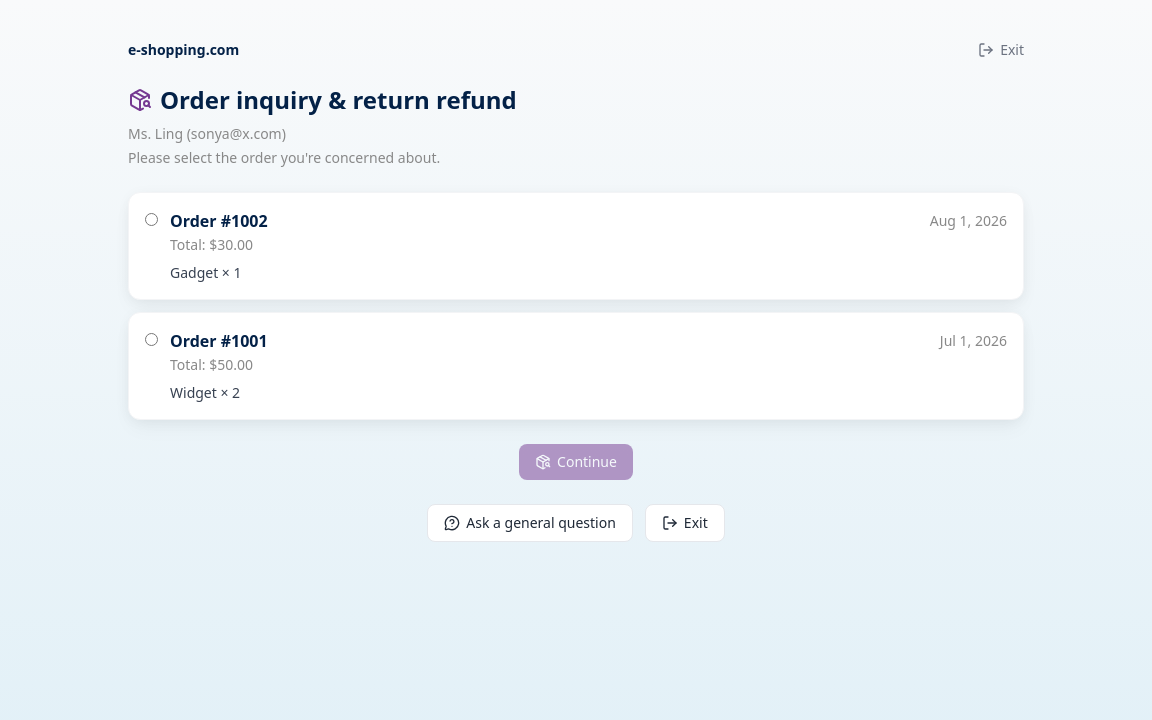
Test: OrderInquiryPage › lets a multi-order customer go back and pick a different order, reusing thread_id
Expected: the text "Order #1002" is shown, [170,209,268,233]
Click the radio button labelled "Order #1002 Aug 1, 2026 Total: $30.00 Gadget × 1" at x=152, y=220, box [145,213,158,226]
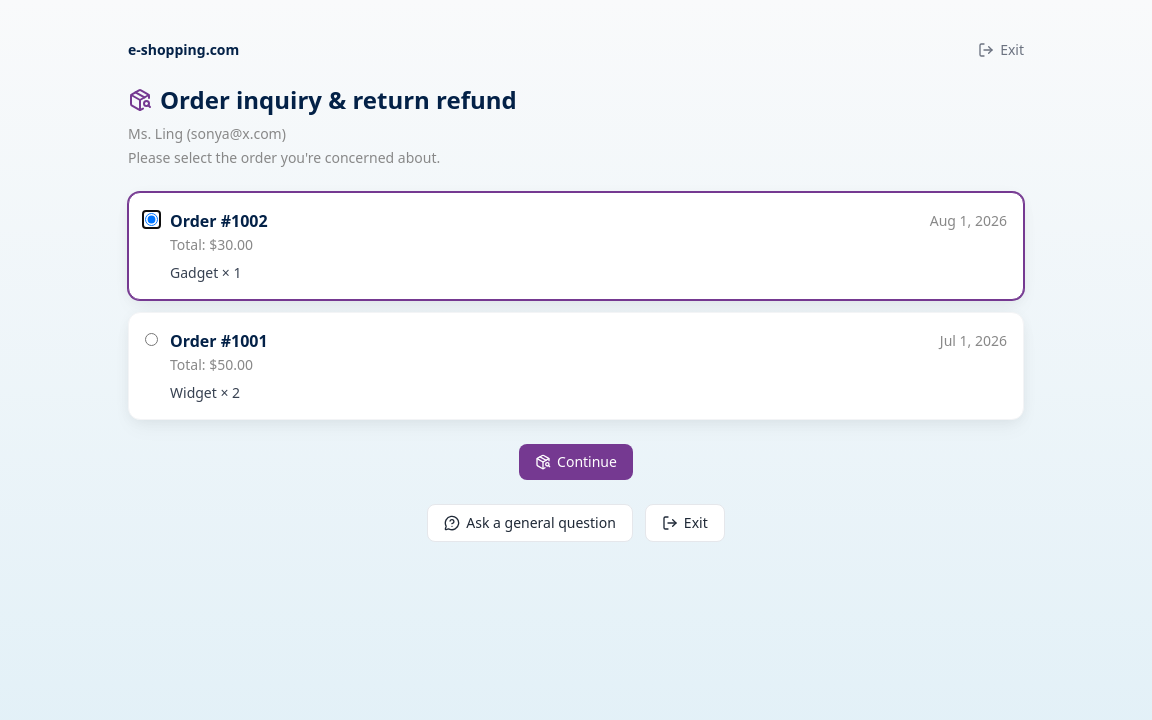
Click the button "Continue" at x=576, y=462, box [519,444,633,480]
(page scrolled)
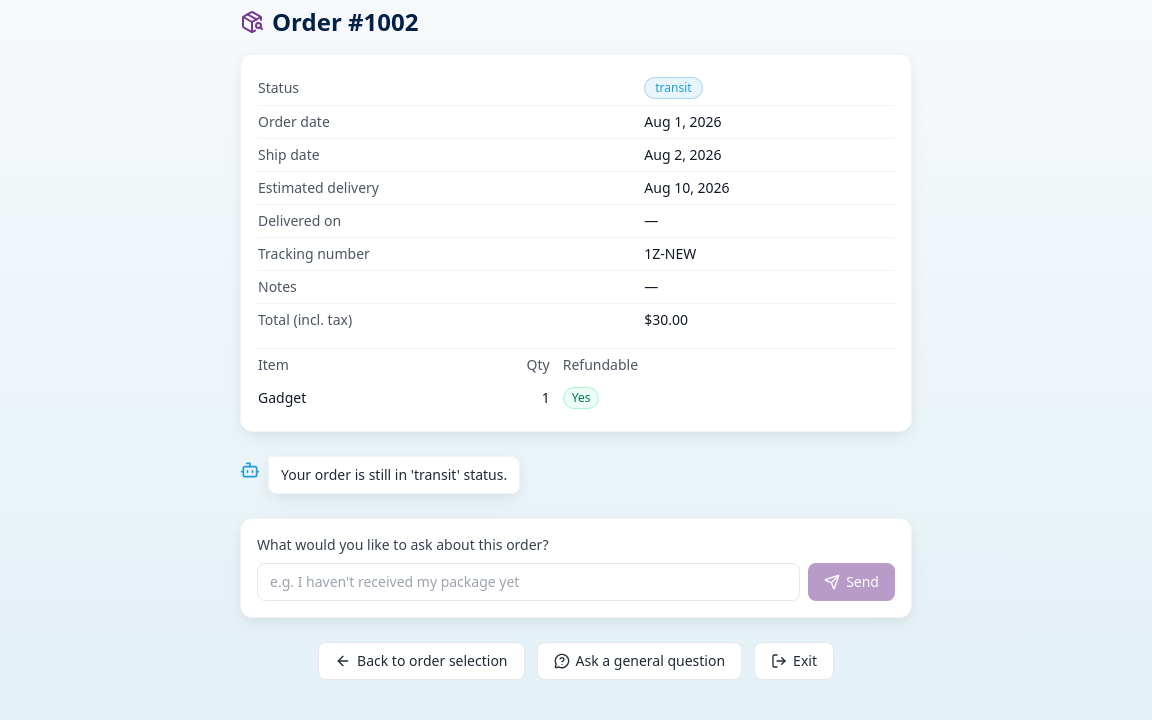
Expected: the text "Your order is still in 'transit' status." is shown, [268,456,520,494]
Expected: the button "Back to order selection" is enabled
Click the button "Back to order selection" at x=421, y=661, box [318,642,524,680]
(page scrolled)
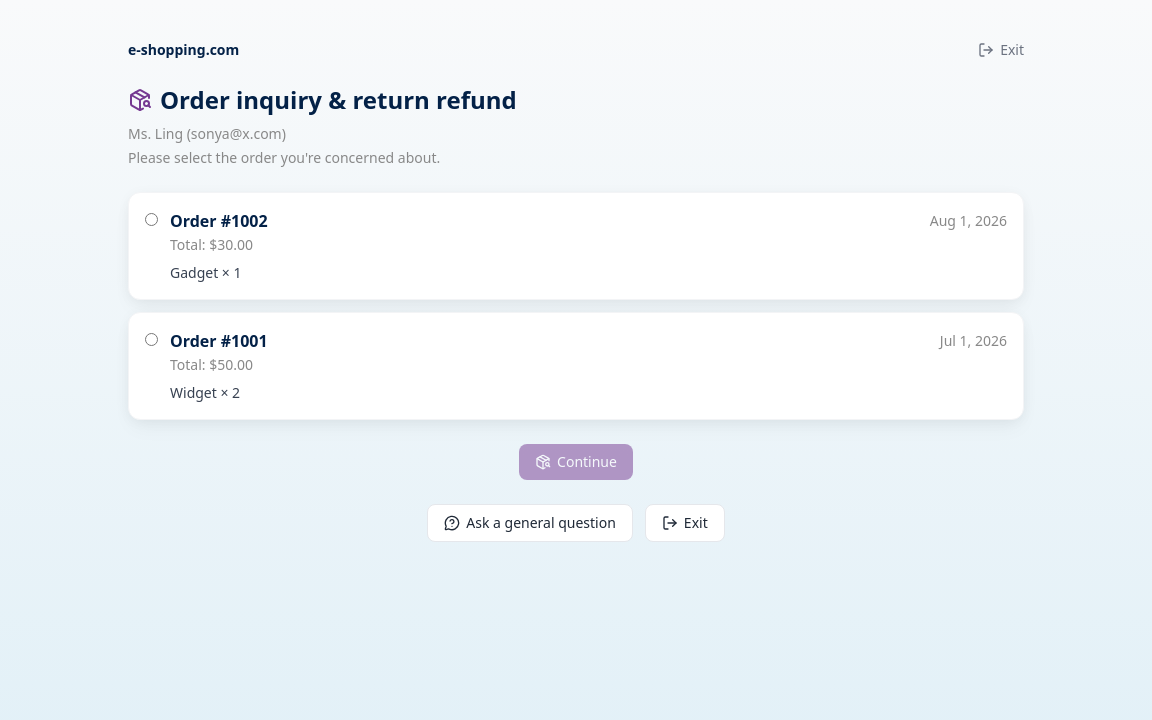
Click the radio button labelled "Order #1001 Jul 1, 2026 Total: $50.00 Widget × 2" at x=152, y=340, box [145,333,158,346]
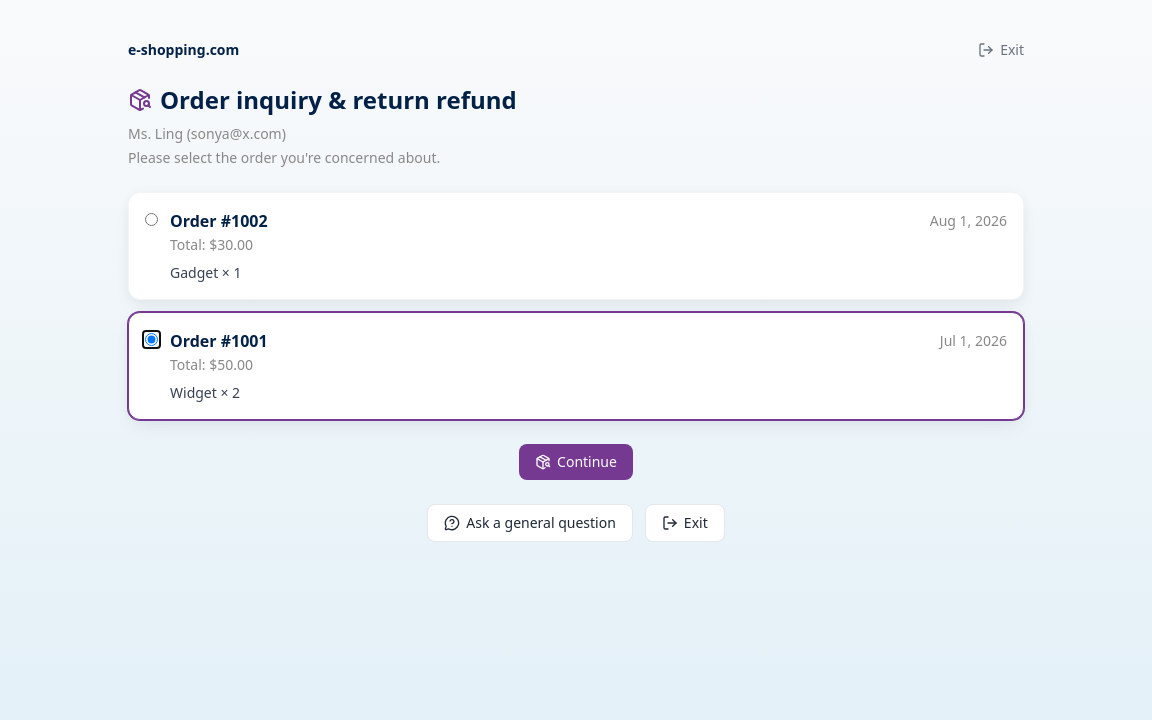
Click the button "Continue" at x=576, y=462, box [519,444,633,480]
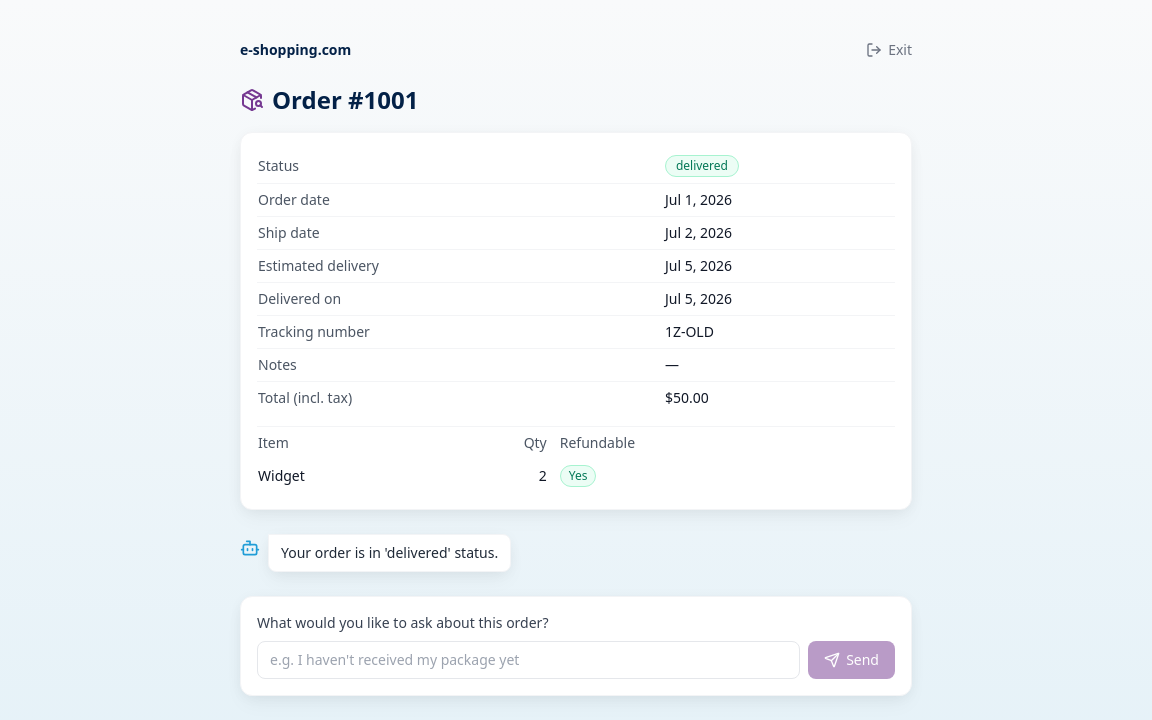
Expected: the text "Your order is in 'delivered' status." is shown, [268,534,511,572]
